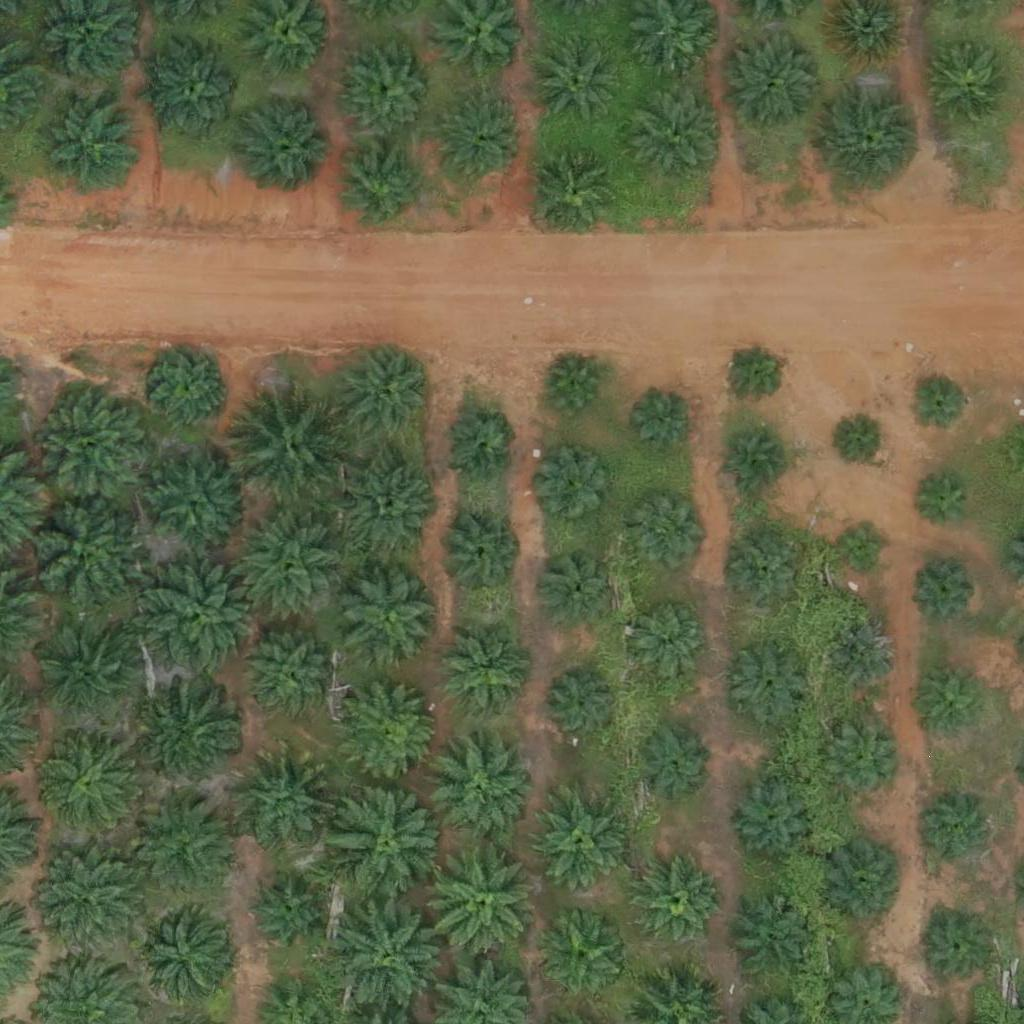Kelapa_Sawit: (31, 380, 156, 506), (19, 491, 144, 617), (24, 838, 149, 964), (139, 555, 264, 681), (230, 381, 355, 507), (226, 504, 351, 630), (328, 780, 453, 906), (328, 893, 453, 1019), (420, 840, 545, 966), (40, 94, 140, 195), (624, 80, 724, 181), (724, 32, 824, 133), (823, 86, 923, 187), (39, 627, 139, 728), (40, 728, 140, 829), (147, 683, 247, 784), (135, 788, 235, 889), (238, 751, 338, 852), (131, 905, 231, 1006), (146, 43, 246, 143), (238, 94, 338, 194), (340, 40, 440, 140), (145, 452, 245, 552), (335, 344, 435, 444), (339, 460, 439, 560), (339, 567, 439, 667), (341, 684, 441, 784), (432, 740, 532, 840), (526, 791, 626, 891), (726, 638, 814, 726), (821, 838, 909, 926), (439, 96, 527, 184), (535, 36, 623, 124), (532, 146, 620, 234), (929, 43, 1017, 131), (441, 630, 529, 718), (730, 778, 818, 866), (539, 915, 627, 1003), (436, 509, 523, 597), (340, 143, 427, 231), (247, 634, 334, 722), (635, 859, 722, 947), (730, 897, 817, 985), (630, 600, 705, 676), (540, 548, 615, 624), (545, 667, 620, 743), (634, 723, 709, 799), (152, 349, 227, 425), (440, 409, 515, 485), (538, 451, 613, 526), (631, 493, 706, 568), (729, 537, 804, 612), (923, 913, 998, 988), (911, 797, 986, 872), (821, 723, 896, 798), (249, 877, 324, 952), (828, 622, 903, 697), (723, 341, 786, 404), (724, 430, 787, 493), (921, 670, 984, 733), (543, 357, 605, 420), (633, 390, 695, 453), (908, 372, 970, 435), (912, 472, 974, 535), (912, 559, 974, 622), (838, 416, 888, 467), (837, 522, 887, 573)
